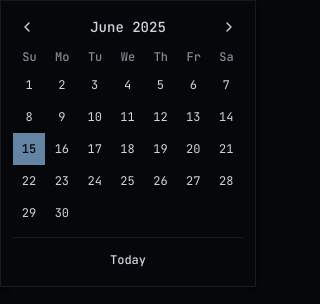
Test: DateEditor › navigates to previous month
Step 1. Click the button named "Previous month" → (27, 27), box [13, 13, 41, 41]
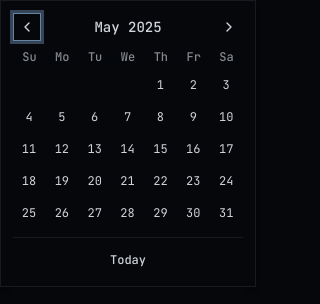
Expected: the text "May 2025" is shown, [94, 17, 162, 37]
